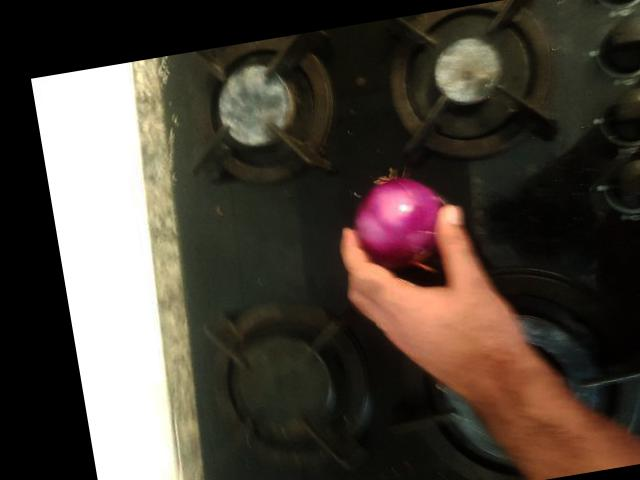onion: (208, 129, 311, 233)
